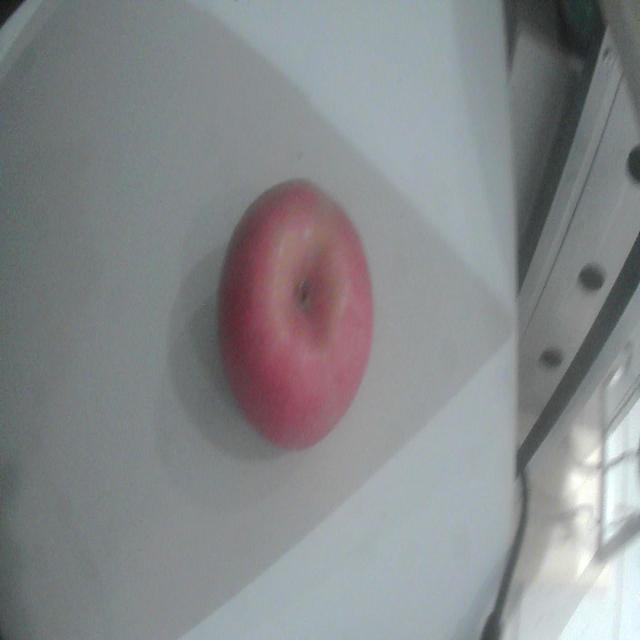Apple: (218, 180, 372, 449)
